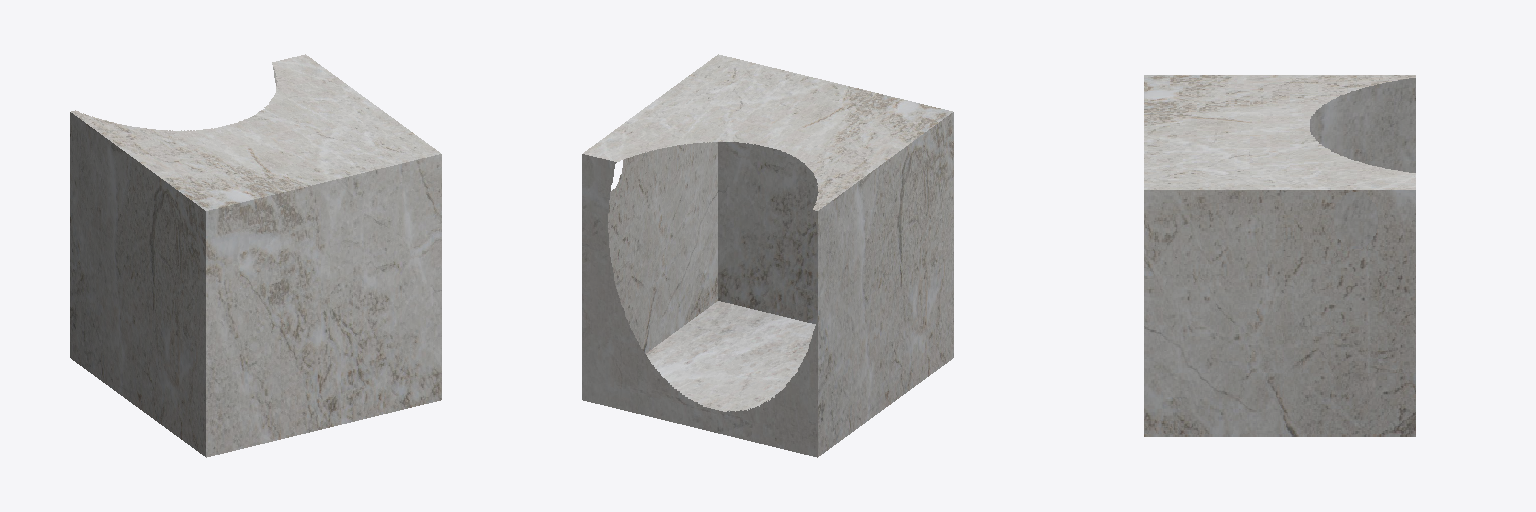
3 views of the same model, side by side, from view 1: azimuth 30°, elevation 25°; view 2: azimuth 150°, elevation 25°; view 3: azimuth 270°, elevation 25° (orthographic).
Visible parts, largest first — view 1: pCube1; view 2: pCube1; view 3: pCube1.
Part boxes in pixels (left/top/right/bottom): pCube1: left=70, top=54, right=441, bottom=457; pCube1: left=582, top=54, right=953, bottom=457; pCube1: left=1144, top=75, right=1415, bottom=436.
Size of the model in its own units: 1 by 1 by 1.
1 materials, 1 textured.